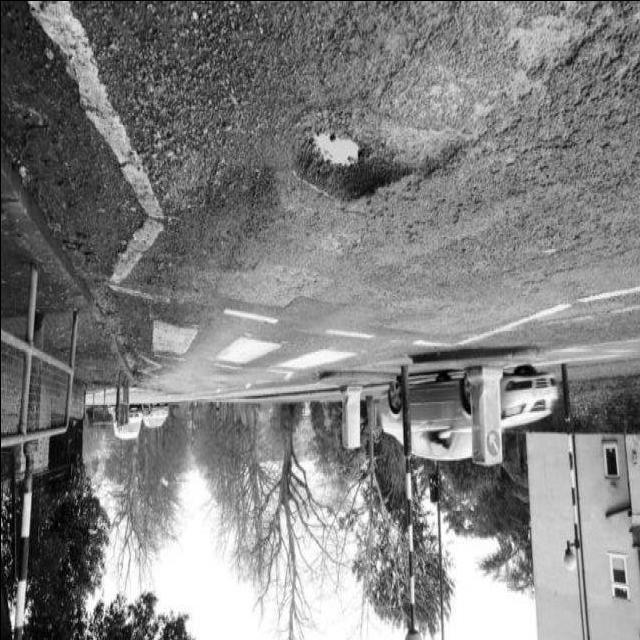lubang: (285, 120, 465, 213)
